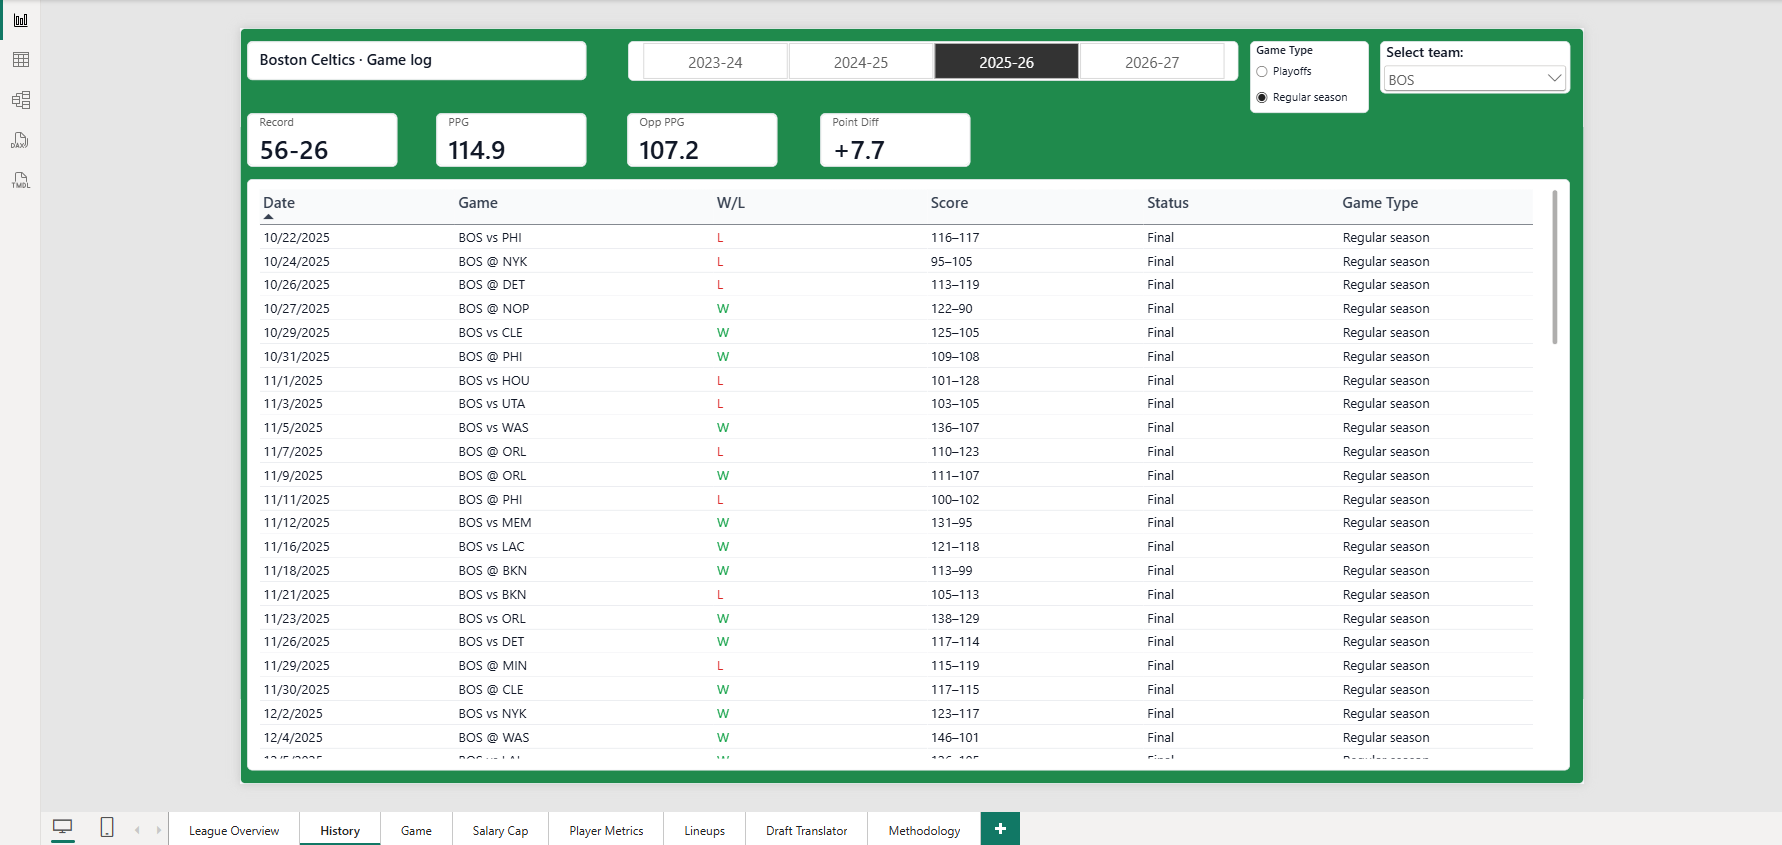

The dashboard page shown, as its layout file describes it:
{"tool":"powerbi","page":{"name":"History","canvas":[1920,1080],"ordinal":1},"visuals":[{"type":"slicer","fields":{"Values":["Seasons.season"]},"box":[0,0,1920.5,90.9],"z":0},{"type":"tableEx","fields":{"Values":["GameList.game_date","GameList.matchup","GameList.result","GameList.Score","GameList.status"]},"box":[9.8,90.2,766.7,992.2],"z":1000}]}

Visuals, with their boxes on the page's 1920x1080 design canvas (x1, y1, x2, y2). These are canvas units, not pixel positions in the 1782x845 screenshot, which may show the page scaled, cropped or inside an application window:
slicer - Seasons.season: pyautogui.locateOnScreen(0, 0, 1920, 91)
tableEx - GameList.game_date x GameList.matchup: pyautogui.locateOnScreen(10, 90, 776, 1082)
